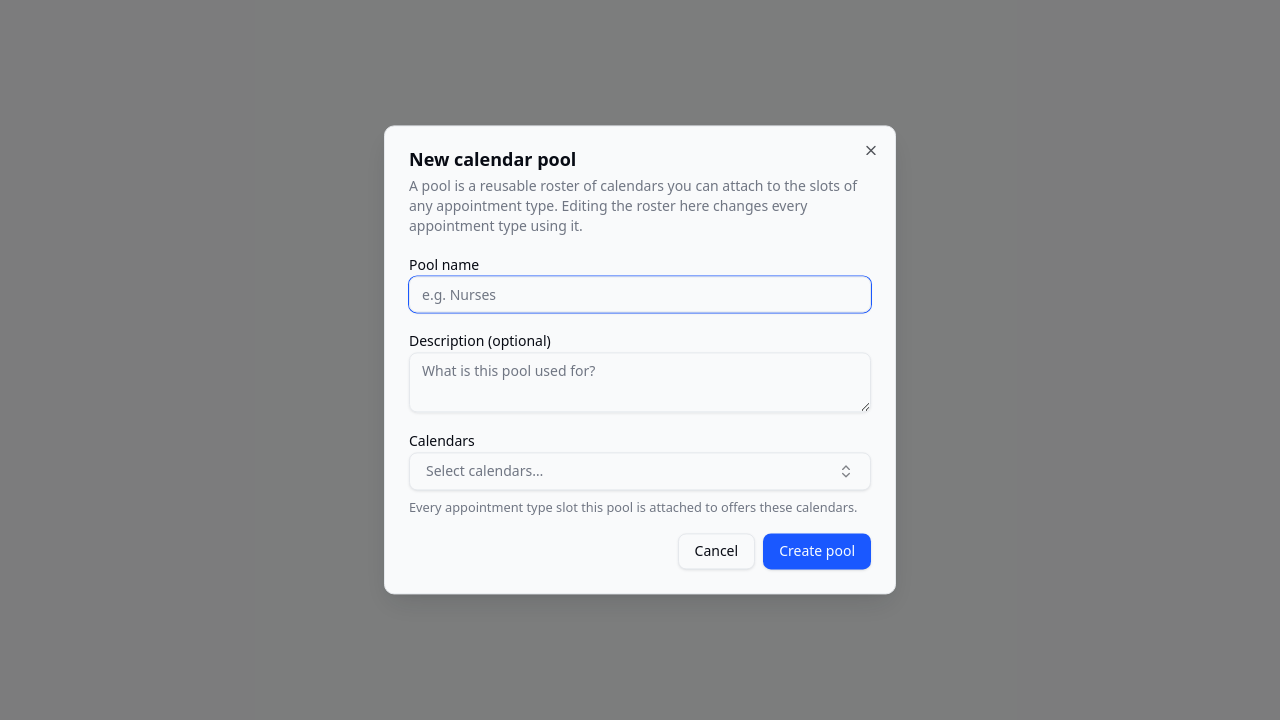
Test: PoolDialog › puts a server field error on its input instead of in a toast
The width and height of the screenshot is (1280, 720).
In the field with placeholder "e.g. Nurses": (640, 294) left=409, top=276, right=871, bottom=312, type "Nurses"
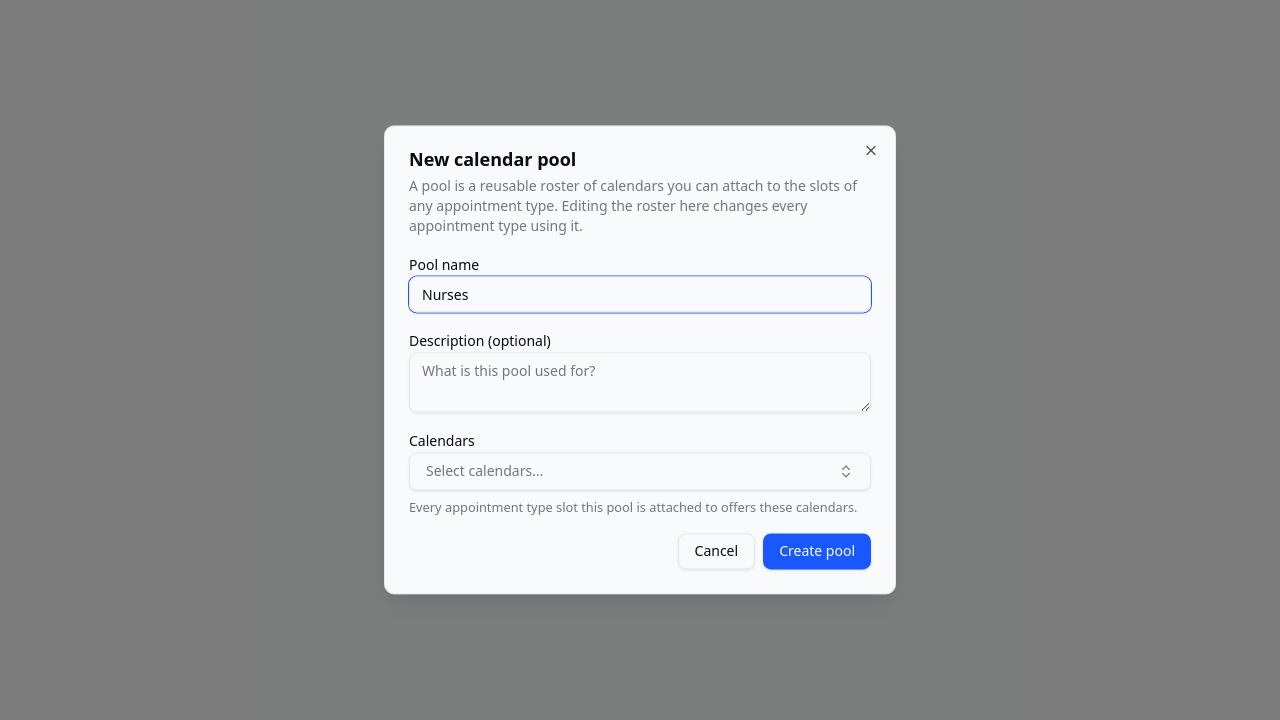
Click the dropdown labelled "Select calendars…": (485, 471) left=409, top=452, right=871, bottom=490
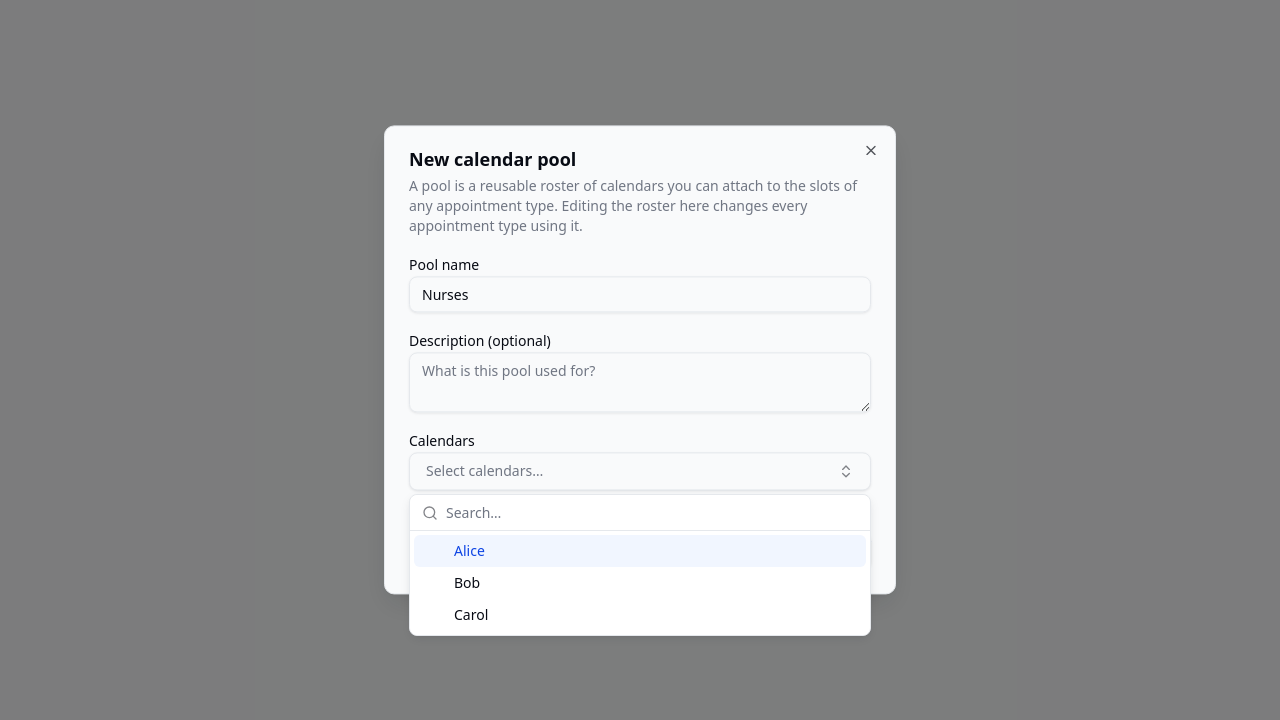
Click the option "Alice": (469, 550) left=414, top=535, right=866, bottom=567
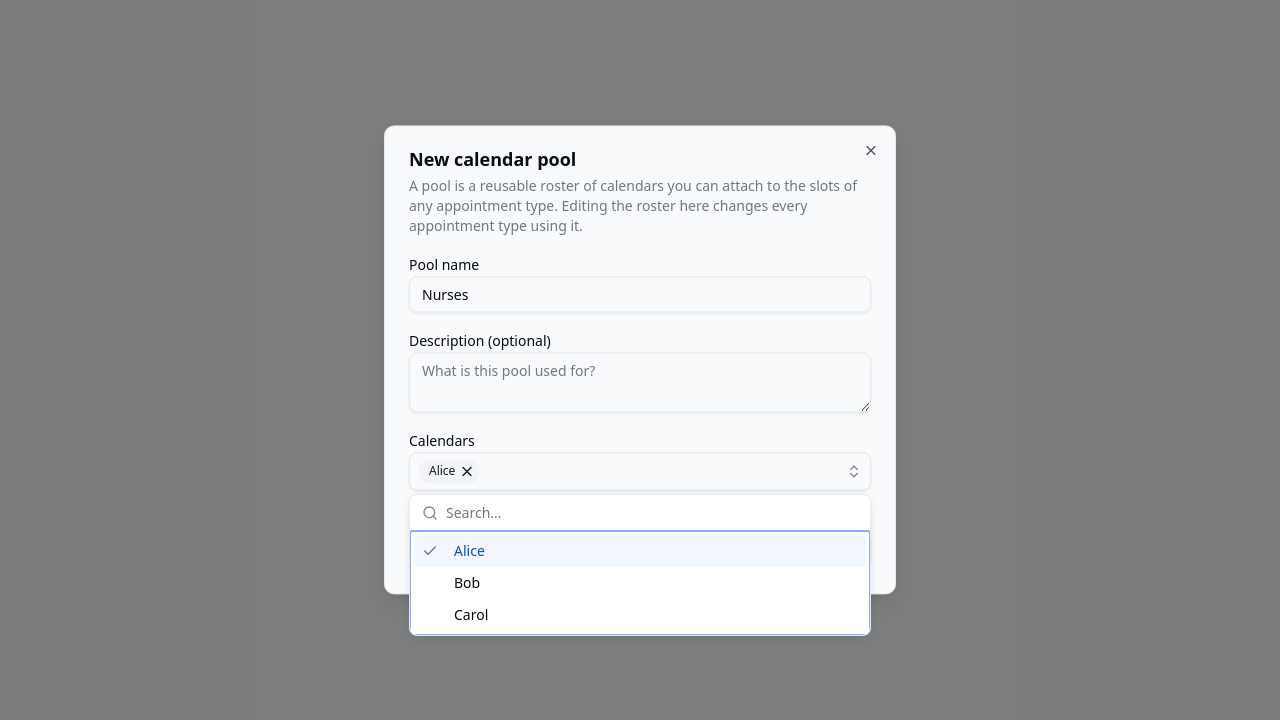
Press Escape
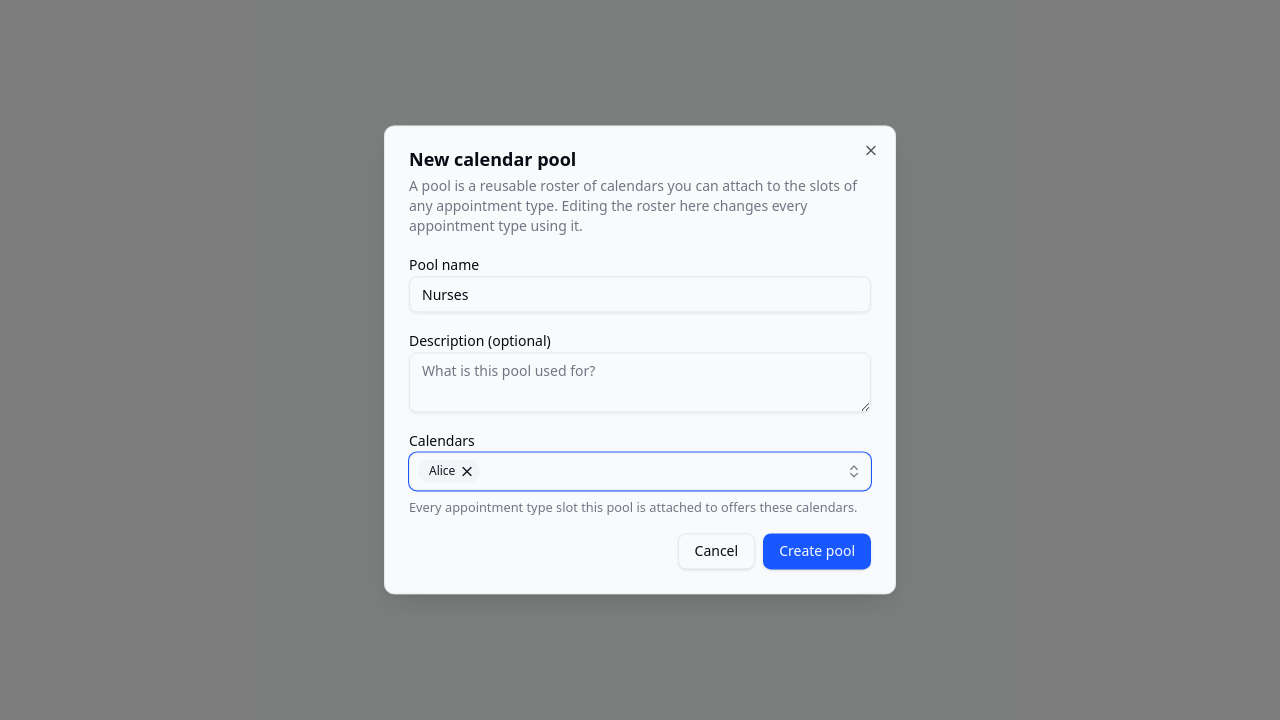
Click the button with test id "pool-submit": (817, 552) left=763, top=534, right=871, bottom=570
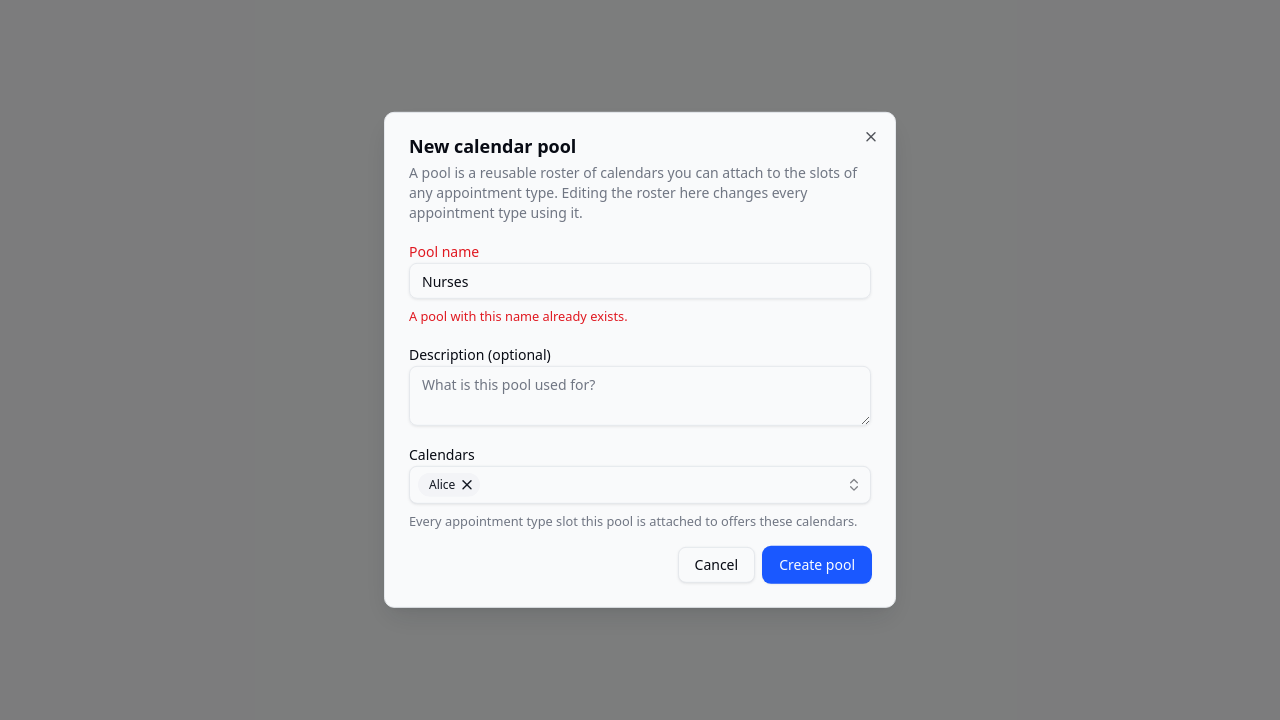
Check: the text "A pool with this name already exists." is shown, box left=409, top=307, right=628, bottom=325
